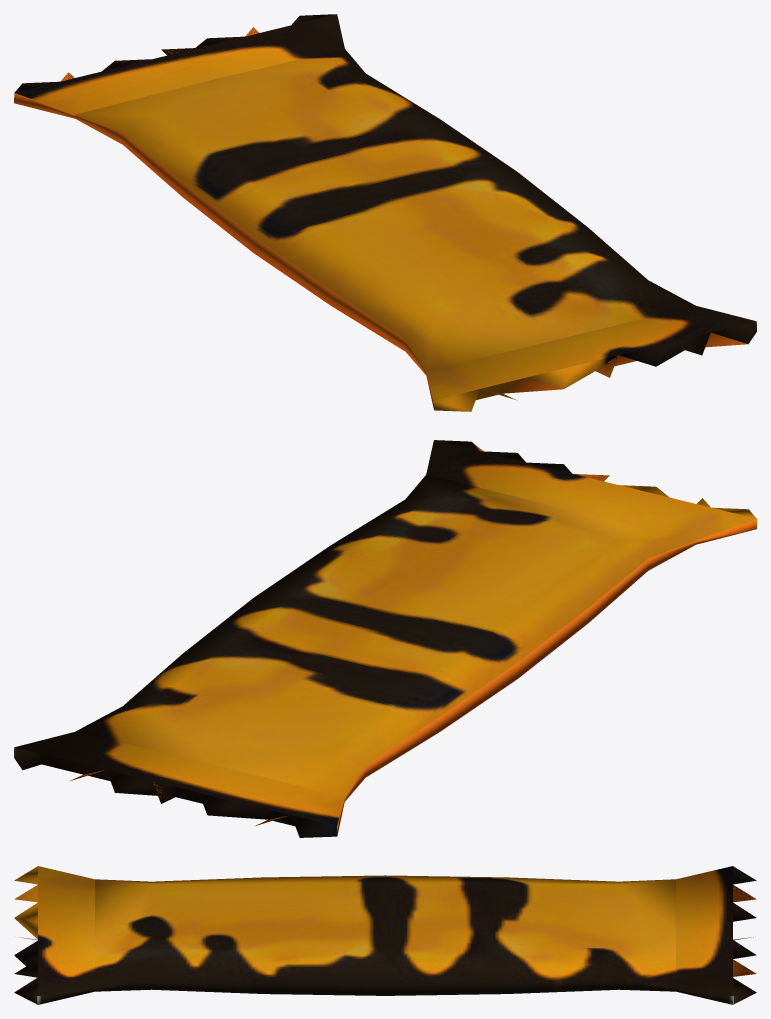
The picture shows the model from 3 angles, top to bottom: view 1: azimuth 30°, elevation 25°; view 2: azimuth 150°, elevation 25°; view 3: azimuth 270°, elevation 25°; orthographic projection. The views are drawn at different scales.
Parts seen in each view (by area): view 1: 2-3; view 2: 2-3; view 3: 2-3.
Part boxes in pixels (x1,y1,x2,y2): 2-3: (14,14,756,411); 2-3: (14,440,756,837); 2-3: (14,866,756,1004).
Size of the model in its own units: 10.77 by 0.8665 by 25.91.
